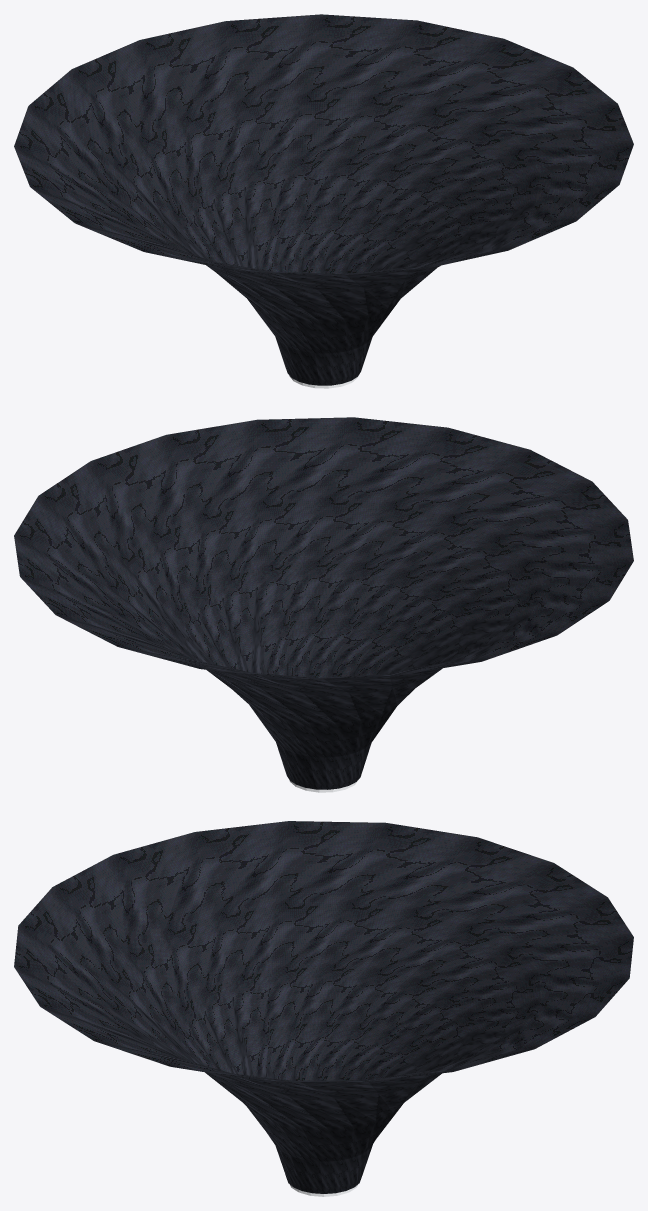
Rendered from vortice.obj.
The picture shows the model from 3 angles, top to bottom: view 1: azimuth 30°, elevation 25°; view 2: azimuth 150°, elevation 25°; view 3: azimuth 270°, elevation 25°; orthographic projection.
Visible parts, largest first — view 1: vortice; view 2: vortice; view 3: vortice.
Part boxes in pixels (x1,y1,x2,y2): vortice: (14, 14, 633, 388); vortice: (14, 417, 633, 792); vortice: (14, 821, 633, 1196).
Bounding box in the file's own units: 298 × 122 × 298.
Materials: 2 (2 with a texture image).
